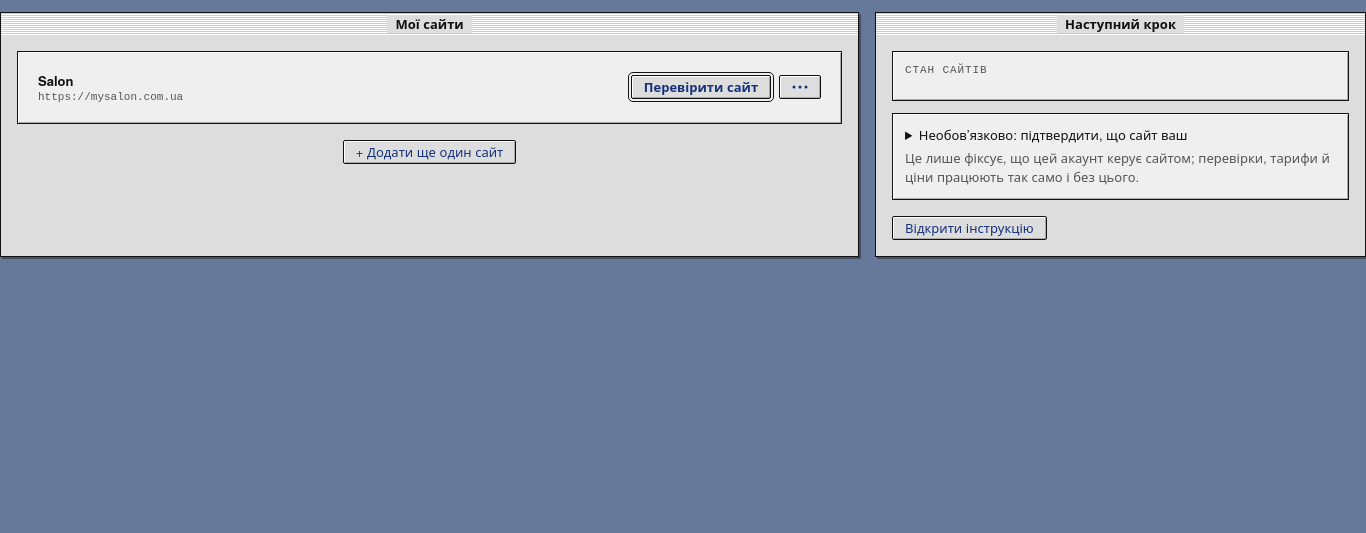
Test: the add-a-site form › offers a plain Cancel when adding and Cancel editing when editing in uk
Click the button "+ Додати ще один сайт". click: (430, 152)
box: [343, 140, 516, 164]
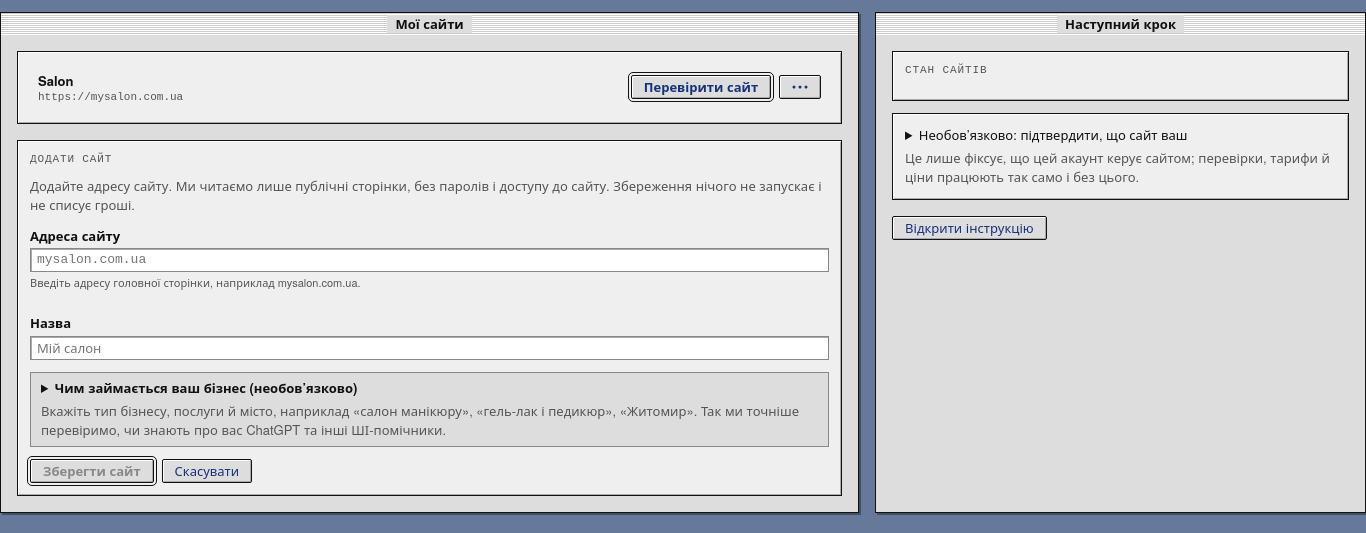
Expected: the button "Скасувати редагування" is not shown
Now the button "Скасувати" is shown
Click the button "Скасувати". click: (207, 471)
box: [162, 459, 252, 483]
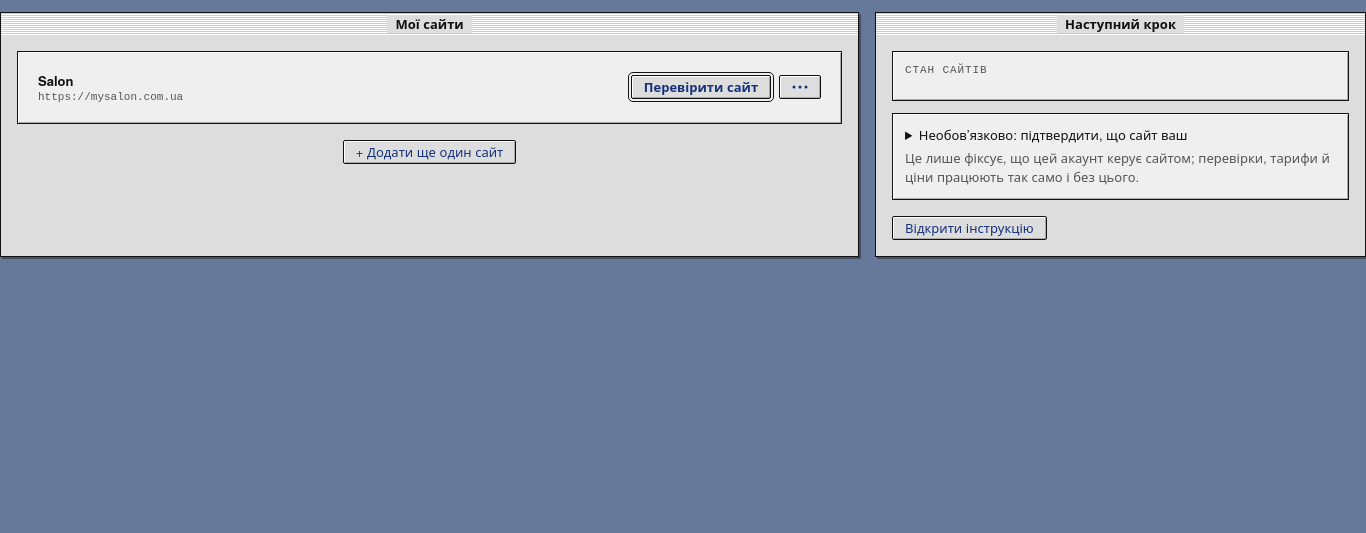
Click the button named "Дії для Salon". click: (800, 87)
box: [779, 75, 821, 99]
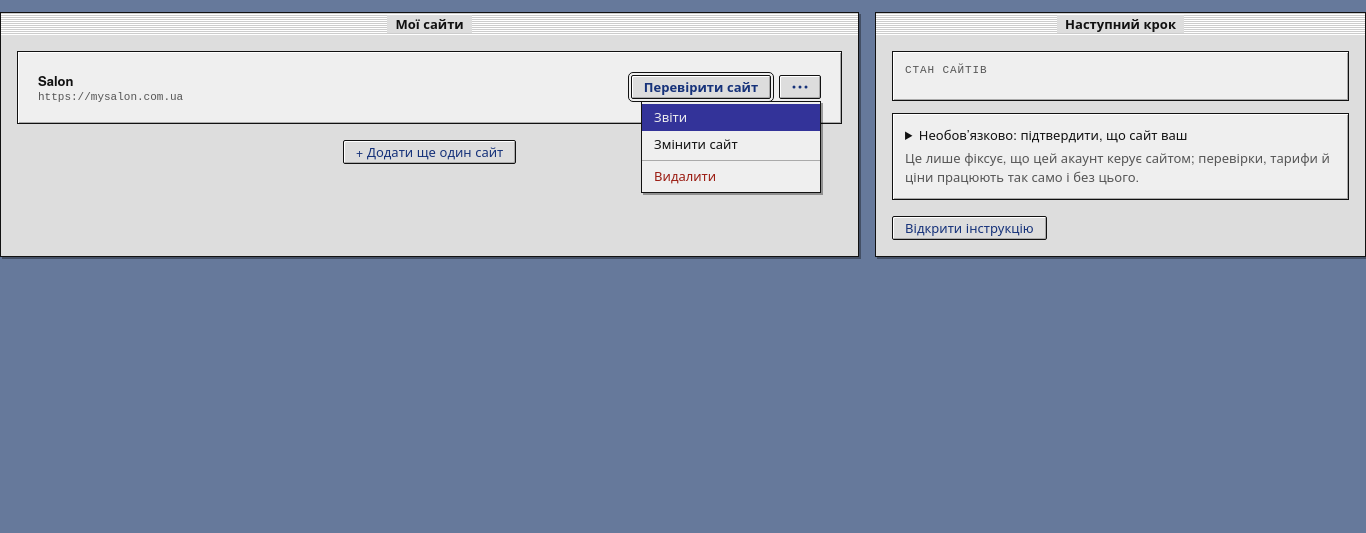
Click the menu item "Змінити сайт". click: (731, 145)
box: [642, 131, 820, 158]
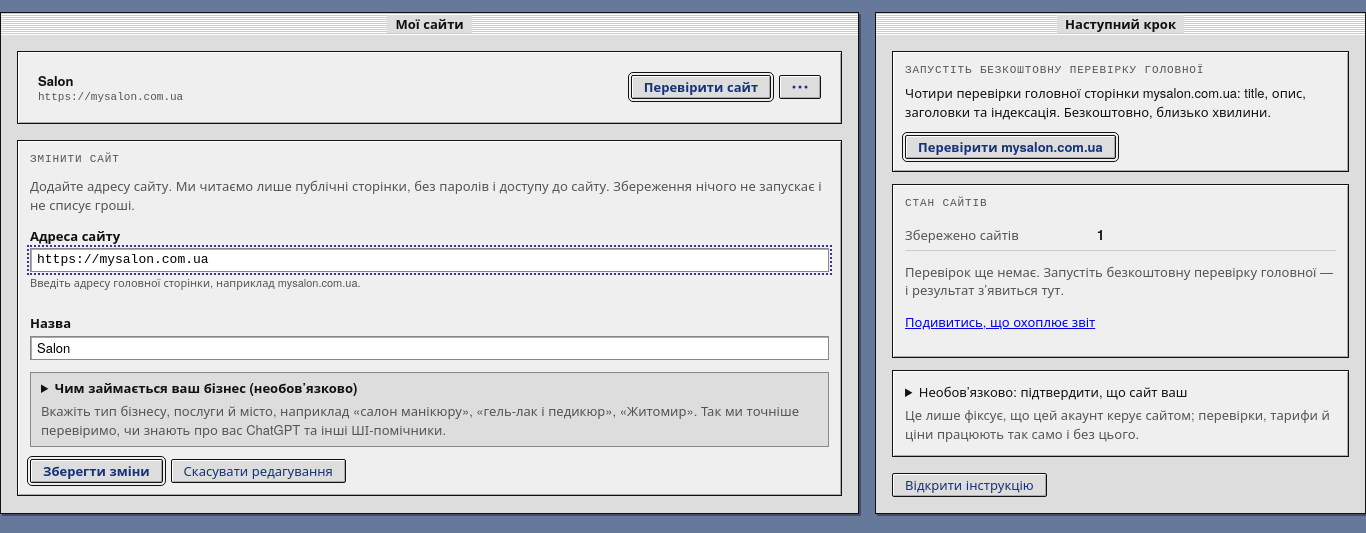
Now the button "Скасувати редагування" is shown, box [171, 459, 346, 483]
